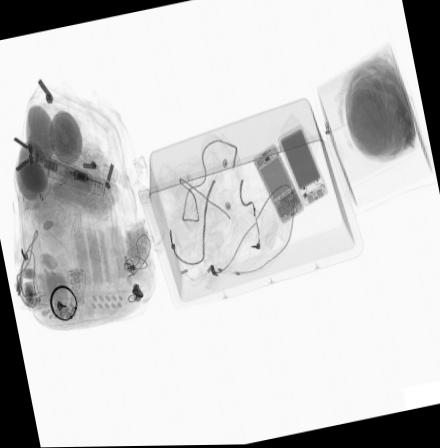Powerbank: (250, 144, 303, 224)
